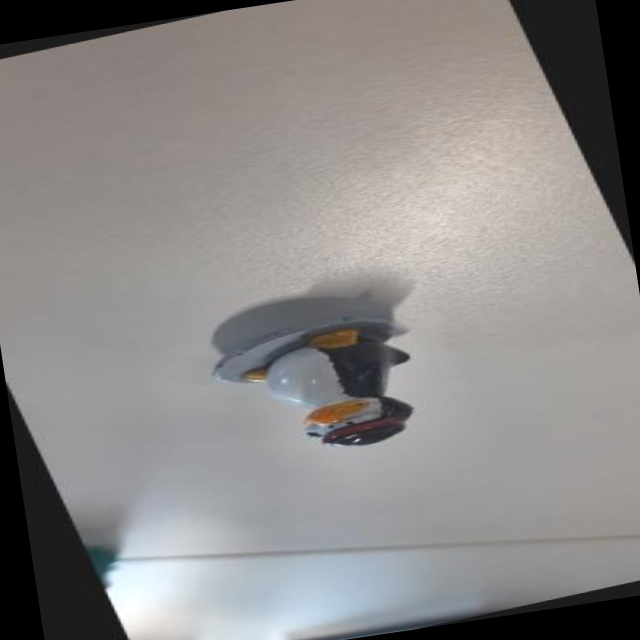Penguin: (192, 281, 474, 485)
